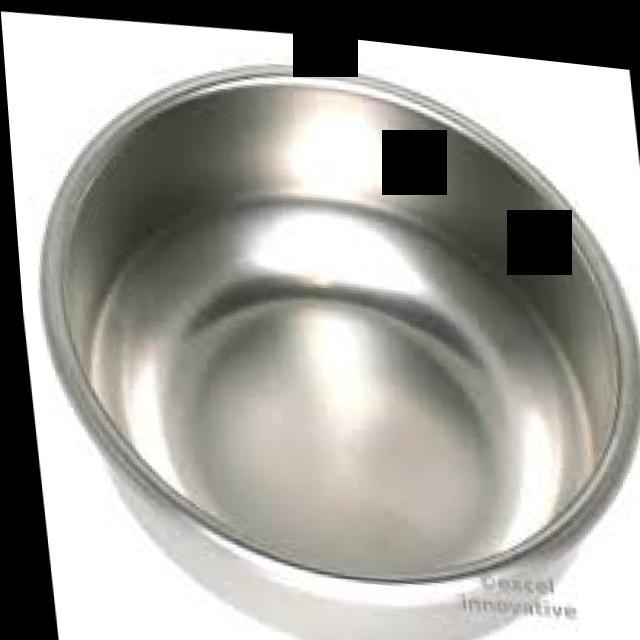Sponge Bowl: (4, 14, 640, 640)
